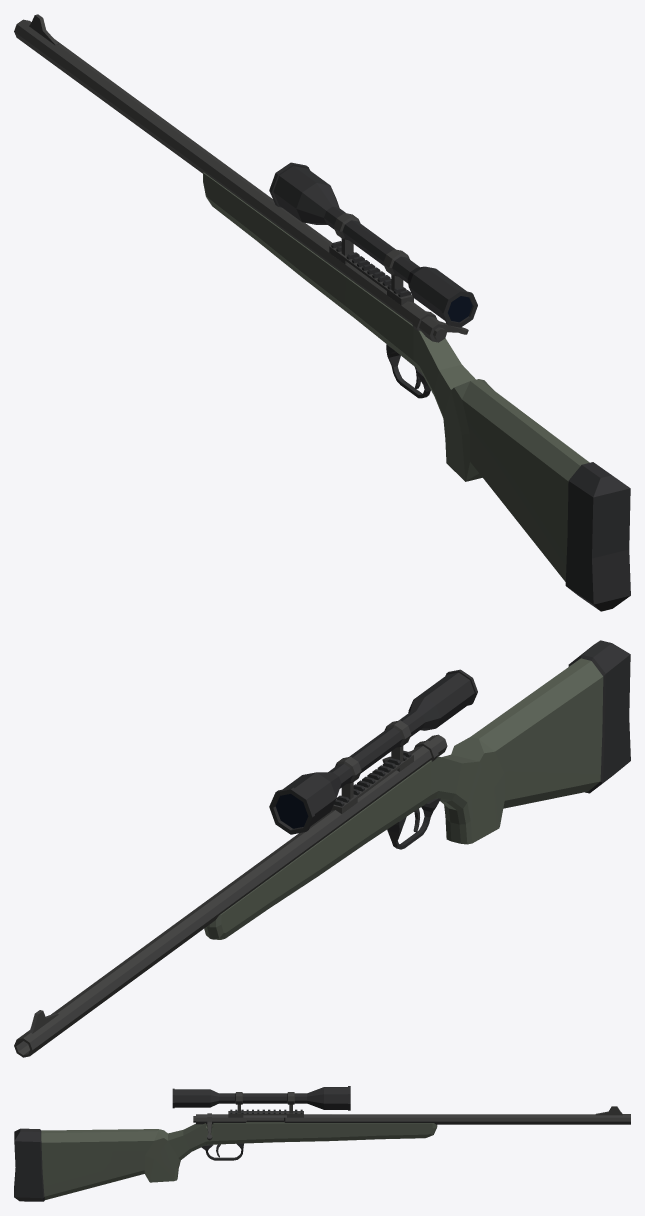
File: SM_Sniper_Rifle_01.fbx
The picture shows the model from 3 angles, top to bottom: view 1: azimuth 30°, elevation 25°; view 2: azimuth 150°, elevation 25°; view 3: azimuth 270°, elevation 25°; orthographic projection. The views are drawn at different scales.
Visible parts, largest first — view 1: SM_Sniper_Rifle_01; view 2: SM_Sniper_Rifle_01; view 3: SM_Sniper_Rifle_01.
Part boxes in pixels (<box>): SM_Sniper_Rifle_01: <box>14,14,630,611</box>; SM_Sniper_Rifle_01: <box>14,640,630,1057</box>; SM_Sniper_Rifle_01: <box>14,1086,630,1201</box>.
Bounding box in the file's own units: 11.48 × 37.1 × 182.
